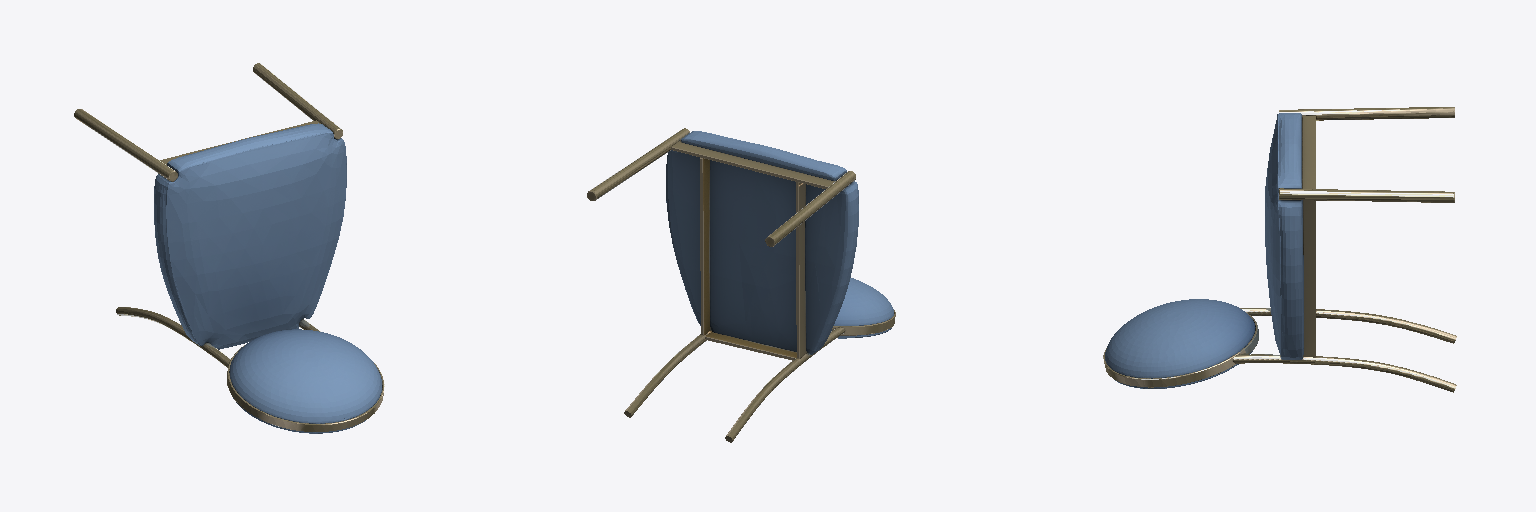
The picture shows the model from 3 angles: view 1: azimuth 30°, elevation 25°; view 2: azimuth 150°, elevation 25°; view 3: azimuth 270°, elevation 25°; orthographic projection.
Size of the model in its own units: 0.5665 by 0.643 by 0.9172.
1 materials, 1 textured.